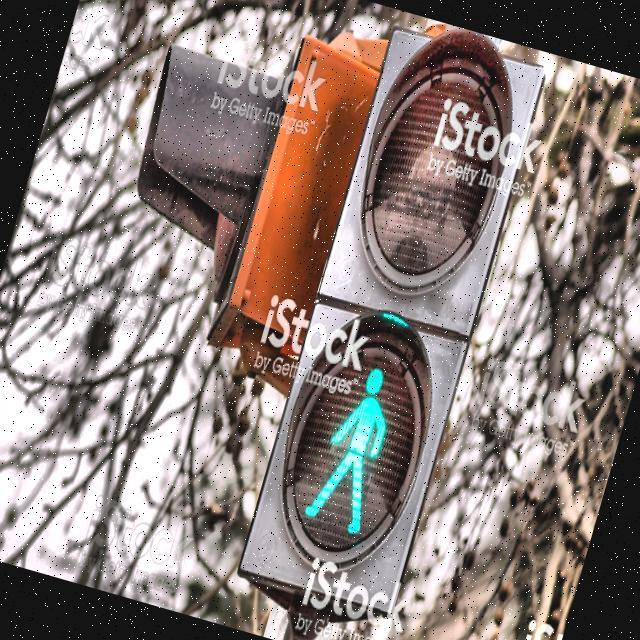green_light: (298, 352, 407, 544)
